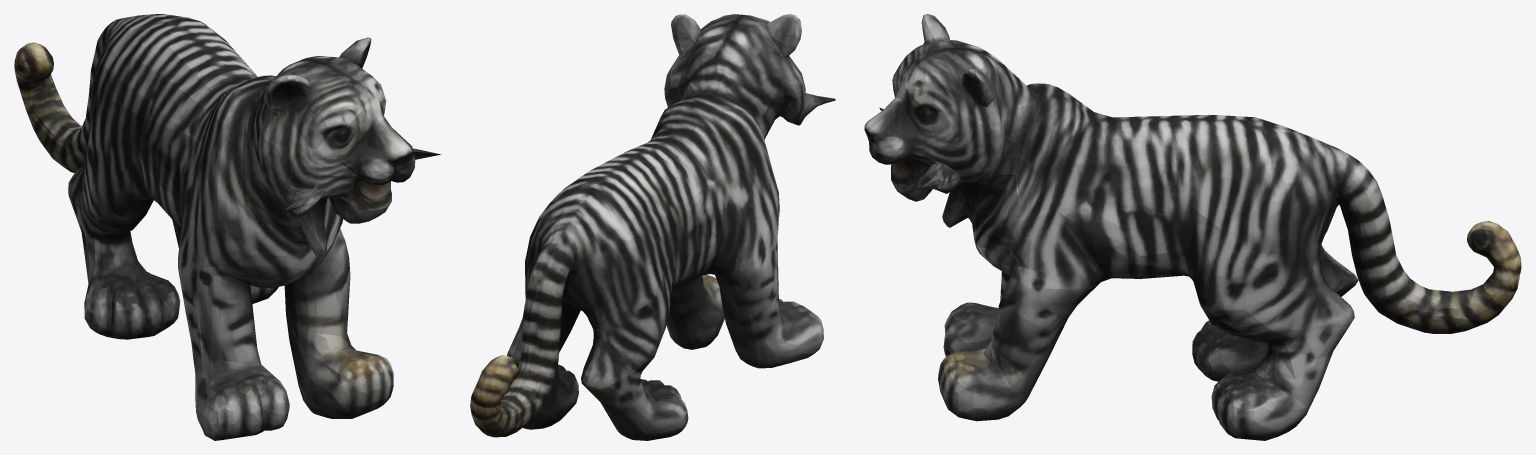
File: tiger.glb
3 renders of one model, left to right at view 1: azimuth 30°, elevation 25°; view 2: azimuth 150°, elevation 25°; view 3: azimuth 270°, elevation 25°, orthographic. The views are drawn at different scales.
Visible parts, largest first — view 1: world; view 2: world; view 3: world.
Boxes of the visible parts, x1,y1,x2,y2 form: world: [14, 14, 441, 440]; world: [470, 14, 835, 440]; world: [864, 14, 1521, 440].
Bounding box in the file's own units: 0.3671 × 0.6082 × 0.9984.
Materials: 1 (1 with a texture image).
